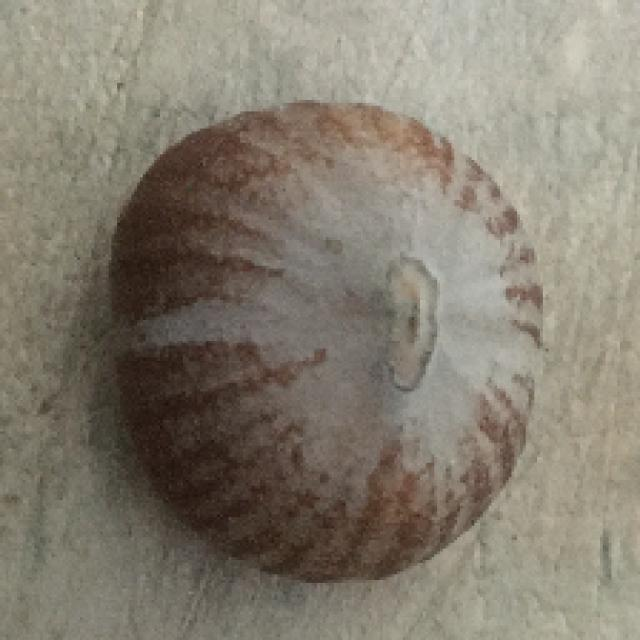qualityHazelnut: (103, 108, 544, 582)
